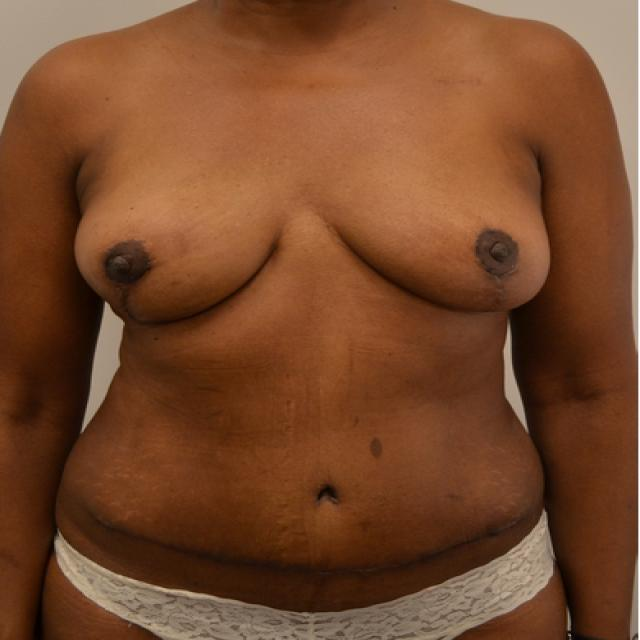Seno herido: (64, 172, 292, 338), (316, 174, 557, 329)
